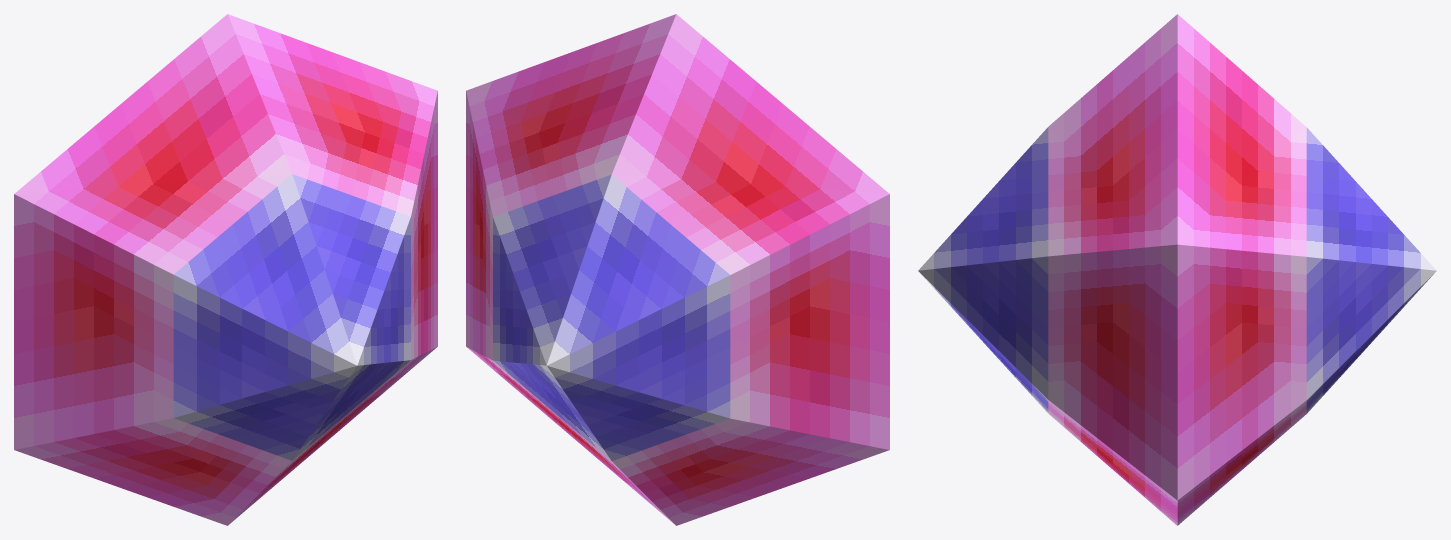
Rendered from jewel22.glb.
3 renders of one model, left to right at view 1: azimuth 30°, elevation 25°; view 2: azimuth 150°, elevation 25°; view 3: azimuth 270°, elevation 25°, orthographic.
Parts seen in each view (by area): view 1: model_jewel22; view 2: model_jewel22; view 3: model_jewel22.
Part boxes in pixels (<box>): model_jewel22: <box>14,14,437,525</box>; model_jewel22: <box>466,14,889,525</box>; model_jewel22: <box>918,14,1436,525</box>.
Bounding box in the file's own units: 0.3377 × 0.39 × 0.3582.
2 materials, 2 textured.
